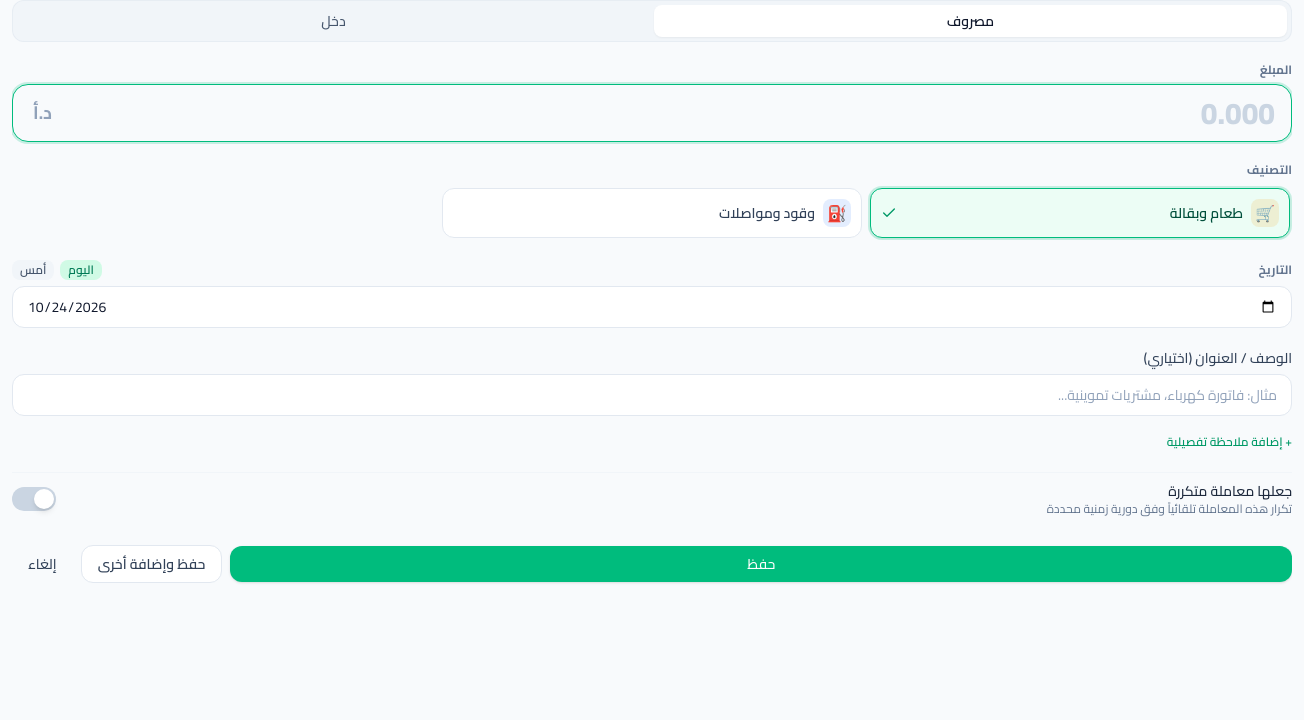
it: TransactionForm Component › shows Arabic error validation when submitting without entering amount or 0
// Attempt to submit with empty amount
What coordinates should you click on to do the following:
click the button "حفظ"
I would click on:
 (761, 564)
Its box is top-left (230, 546), bottom-right (1292, 582).
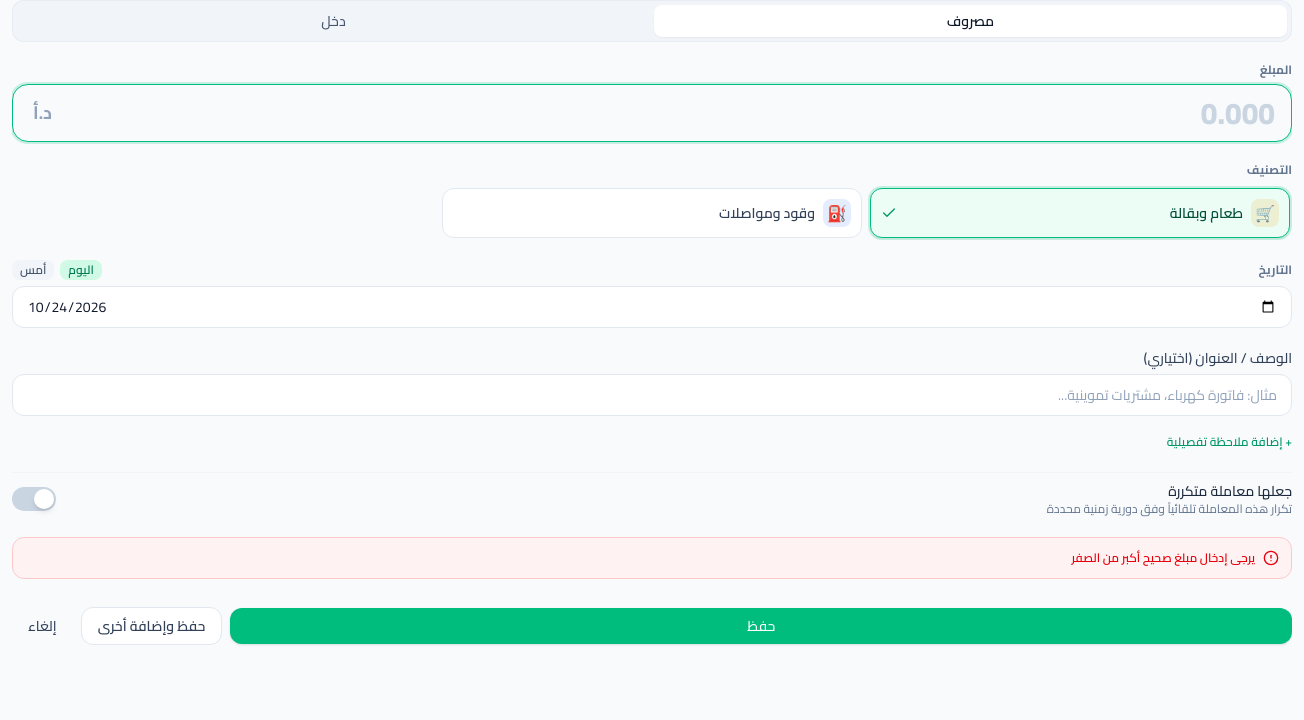
Expected: the text "يرجى إدخال مبلغ صحيح أكبر من الصفر" is shown, top-left (1071, 550), bottom-right (1255, 566)
